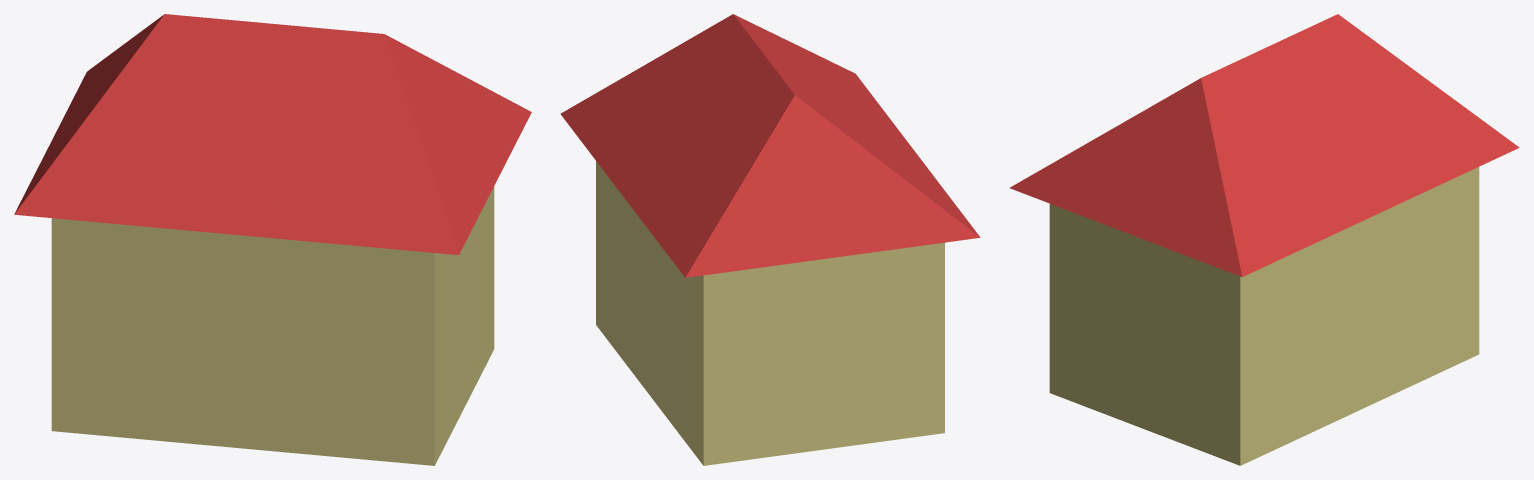
3 views of the same model, side by side, from view 1: azimuth 30°, elevation 25°; view 2: azimuth 150°, elevation 25°; view 3: azimuth 270°, elevation 25° (orthographic). The views are drawn at different scales.
Parts seen in each view (by area): view 1: group_5, group_3, group_4; view 2: group_5, group_3, group_4; view 3: group_5, group_3, group_4.
Boxes of the visible parts, box(x1,y1,x2,y2) form: group_5: box(51, 186, 494, 465); group_3: box(51, 14, 527, 254); group_4: box(14, 56, 531, 254); group_5: box(596, 161, 944, 465); group_3: box(596, 14, 979, 277); group_4: box(560, 63, 980, 277); group_5: box(1049, 167, 1479, 465); group_3: box(1062, 14, 1515, 277); group_4: box(1010, 111, 1519, 276).
Bounding box in the file's own units: 18.05 × 17.81 × 12.68.
